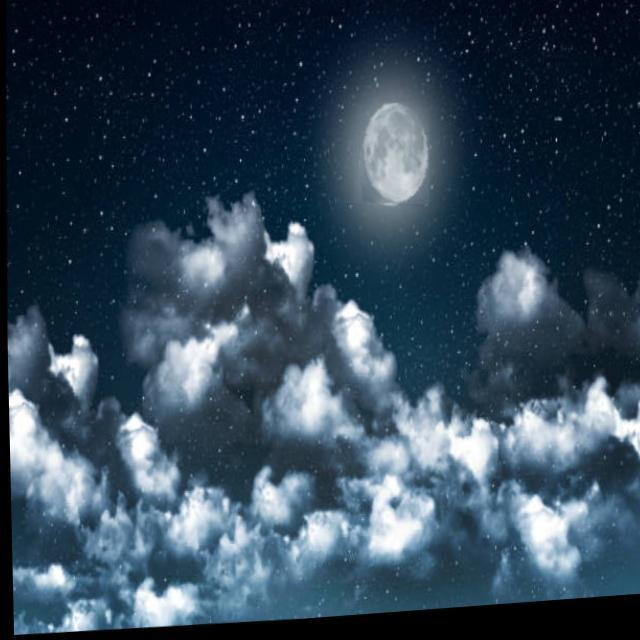moon: (352, 106, 429, 215)
